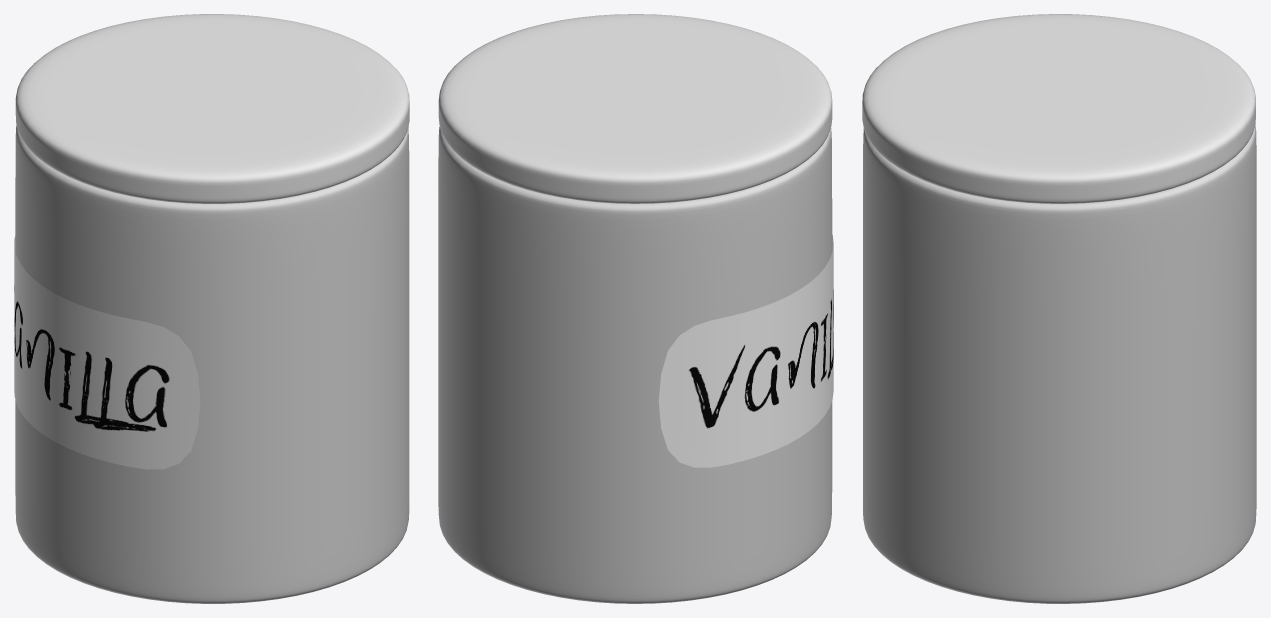
The model's file is vanilla-jar.fbx.
3 renders of one model, left to right at view 1: azimuth 30°, elevation 25°; view 2: azimuth 150°, elevation 25°; view 3: azimuth 270°, elevation 25°, orthographic.
Visible parts, largest first — view 1: jar.001, jar-cap.001, label.001; view 2: jar.001, jar-cap.001, label.001; view 3: jar.001, jar-cap.001.
Boxes of the visible parts, left/top/right/bottom form: jar.001: left=15, top=125, right=409, bottom=603; jar-cap.001: left=15, top=14, right=409, bottom=203; label.001: left=14, top=236, right=200, bottom=469; jar.001: left=438, top=127, right=832, bottom=603; jar-cap.001: left=438, top=14, right=832, bottom=203; label.001: left=658, top=234, right=833, bottom=467; jar.001: left=863, top=125, right=1256, bottom=603; jar-cap.001: left=862, top=14, right=1255, bottom=203.
Size of the model in its own units: 196 by 235 by 195.
